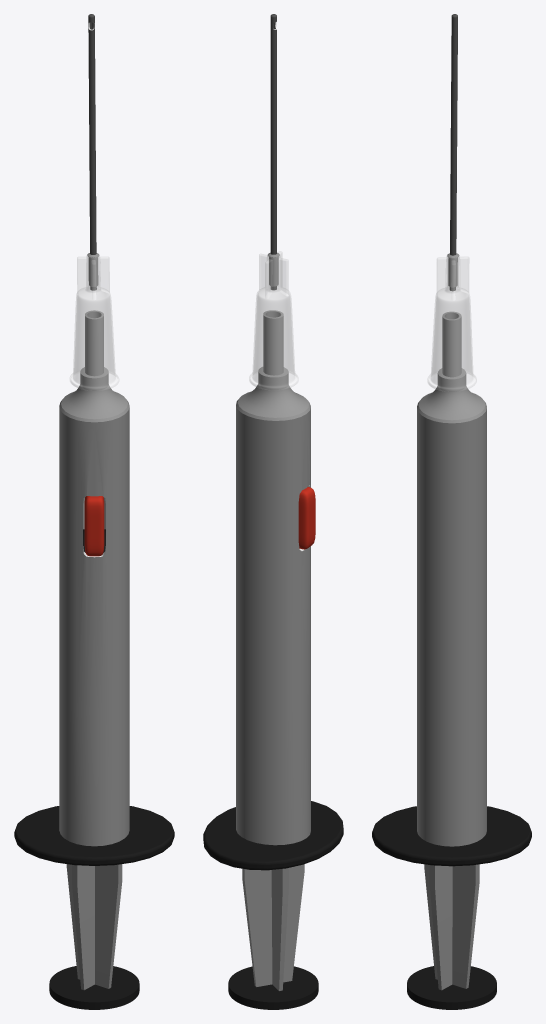
File: syringe_VR.obj
3 views of the same model, side by side, from view 1: azimuth 90°, elevation 25°; view 2: azimuth 150°, elevation 25°; view 3: azimuth 270°, elevation 25° (orthographic).
Visible parts, largest first — view 1: ??, ???_, Cylinder.1, Cylinder, Cube_1; view 2: ??, ???_, Cylinder.1, Cylinder, Cube_1; view 3: ??, ???_, Cylinder.1, Cylinder.
Boxes of the visible parts, x1=… form: ??: x1=14, y1=310, x2=174, y2=865; ???_: x1=70, y1=14, x2=118, y2=390; Cylinder.1: x1=66, y1=864, x2=122, y2=990; Cylinder: x1=49, y1=966, x2=139, y2=1009; Cube_1: x1=84, y1=496, x2=104, y2=556; ??: x1=203, y1=310, x2=343, y2=870; ???_: x1=249, y1=14, x2=298, y2=389; Cylinder.1: x1=242, y1=864, x2=304, y2=990; Cylinder: x1=228, y1=966, x2=318, y2=1009; Cube_1: x1=298, y1=487, x2=315, y2=549; ??: x1=372, y1=311, x2=531, y2=866; ???_: x1=427, y1=14, x2=476, y2=391; Cylinder.1: x1=424, y1=864, x2=479, y2=990; Cylinder: x1=407, y1=966, x2=496, y2=1009.
Bounding box in the file's own units: 47.59 × 383 × 56.93.
